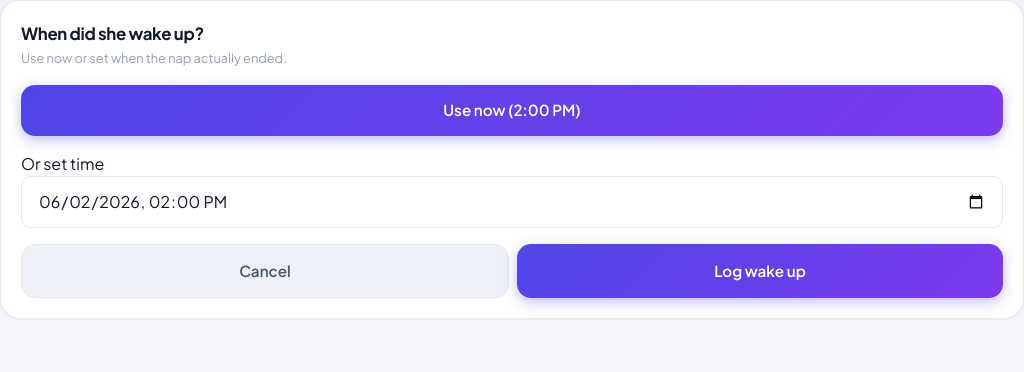
Test: LogTimePrompt › rejects time before minTime
Step 1. Replace the text in the field labelled "Or set time" with "2026-06-02T08:00" → (512, 202), box [21,176,1003,228]
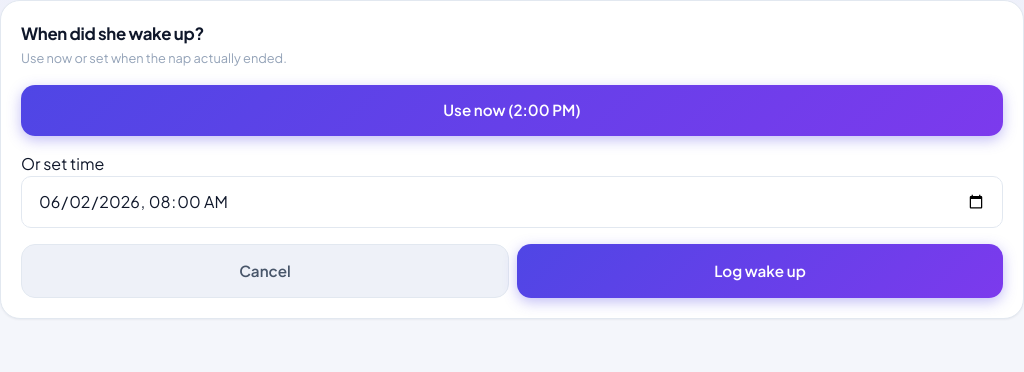
Step 2. Click the button "Log wake up" → (760, 271), box [517,244,1003,298]
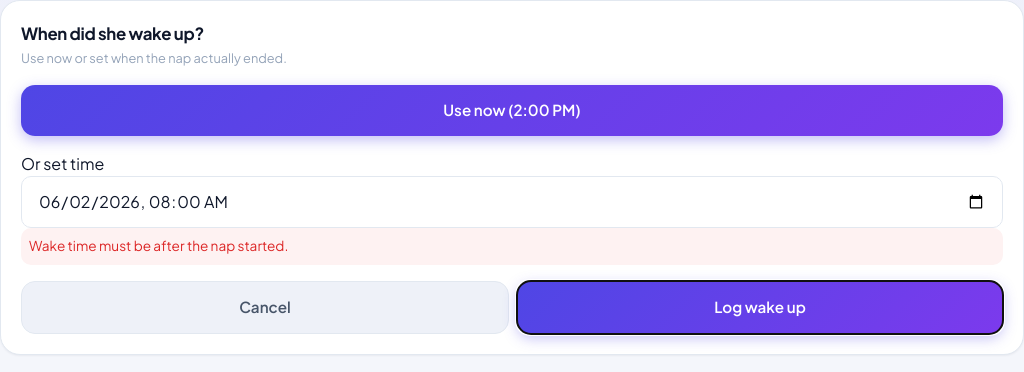
Now the text "Wake time must be after the nap started." is shown, box [21,228,1003,264]
